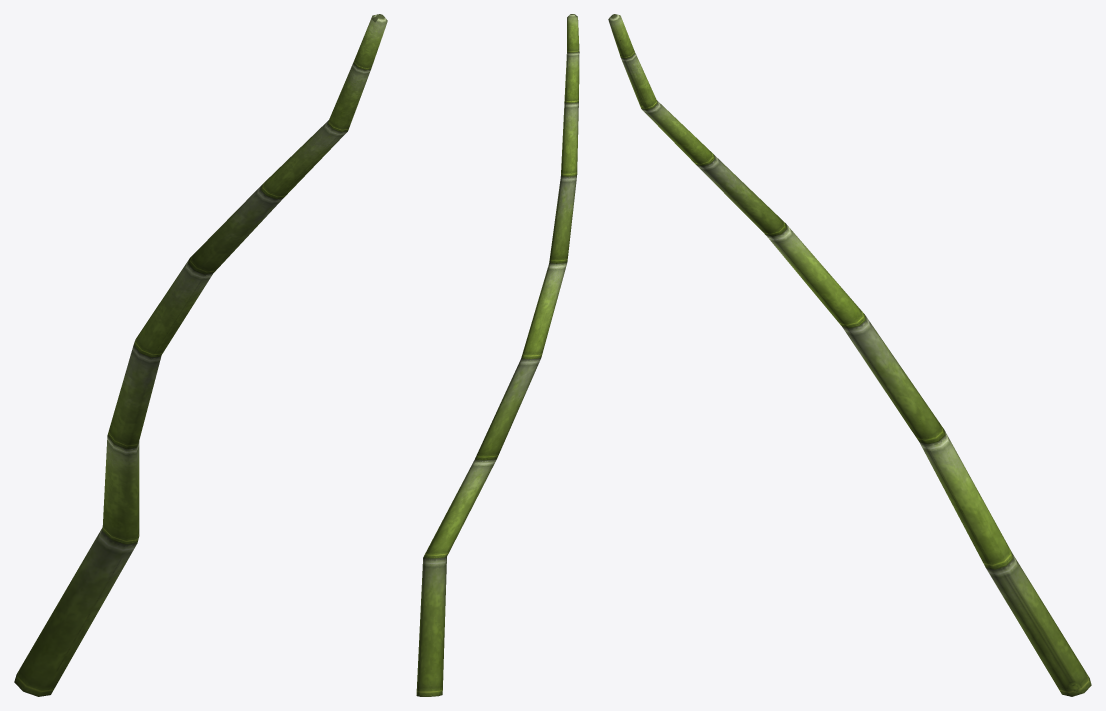
Rendered from BambooSet_part_0.fbx.
3 views of the same model, side by side, from view 1: azimuth 30°, elevation 25°; view 2: azimuth 150°, elevation 25°; view 3: azimuth 270°, elevation 25° (orthographic). The views are drawn at different scales.
Parts seen in each view (by area): view 1: Object_10.001; view 2: Object_10.001; view 3: Object_10.001.
Boxes of the visible parts, x1,y1,x2,y2 form: Object_10.001: (14,14,387,696); Object_10.001: (416,14,579,696); Object_10.001: (608,14,1091,696).
Bounding box in the file's own units: 46.5 × 379 × 237.
